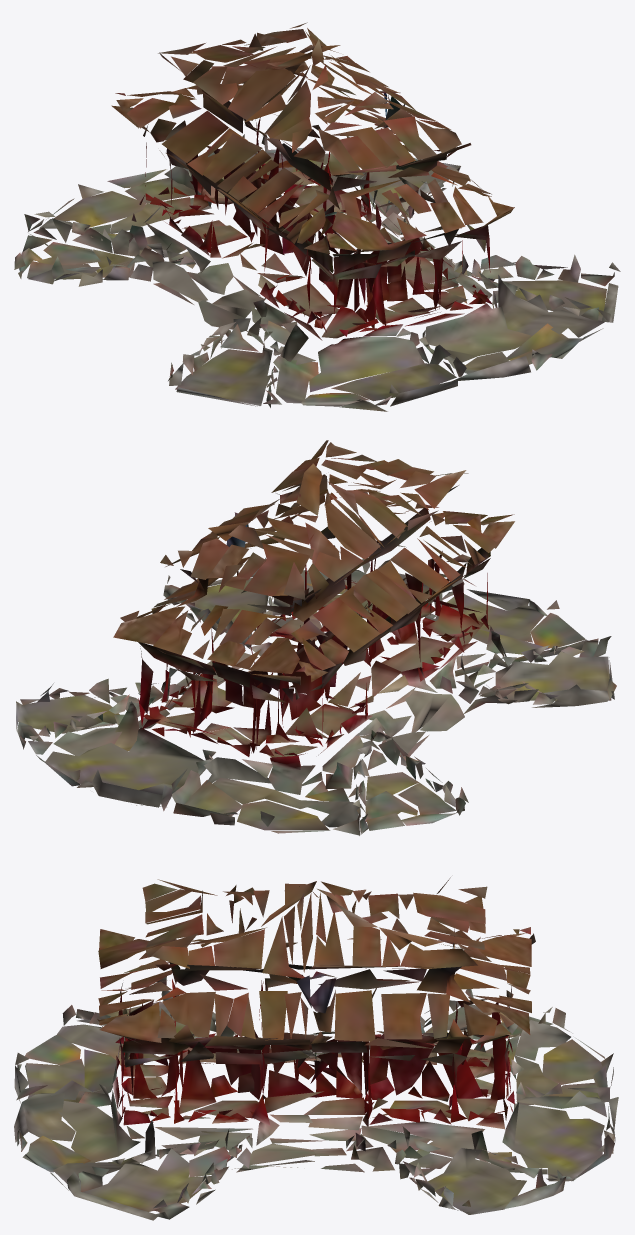
File: preview.glb
3 renders of one model, top to bottom at view 1: azimuth 30°, elevation 25°; view 2: azimuth 150°, elevation 25°; view 3: azimuth 270°, elevation 25°, orthographic.
Parts seen in each view (by area): view 1: guozijian/tripo_node_50a8406a-ee39-4b21-a69a-288838b6e4f5; view 2: guozijian/tripo_node_50a8406a-ee39-4b21-a69a-288838b6e4f5; view 3: guozijian/tripo_node_50a8406a-ee39-4b21-a69a-288838b6e4f5.
Part boxes in pixels (<box>): guozijian/tripo_node_50a8406a-ee39-4b21-a69a-288838b6e4f5: <box>14,22,620,411</box>; guozijian/tripo_node_50a8406a-ee39-4b21-a69a-288838b6e4f5: <box>16,440,616,835</box>; guozijian/tripo_node_50a8406a-ee39-4b21-a69a-288838b6e4f5: <box>14,877,618,1220</box>.
Bounding box in the file's own units: 0.3143 × 0.1695 × 0.3588.
1 material, 1 textured.
